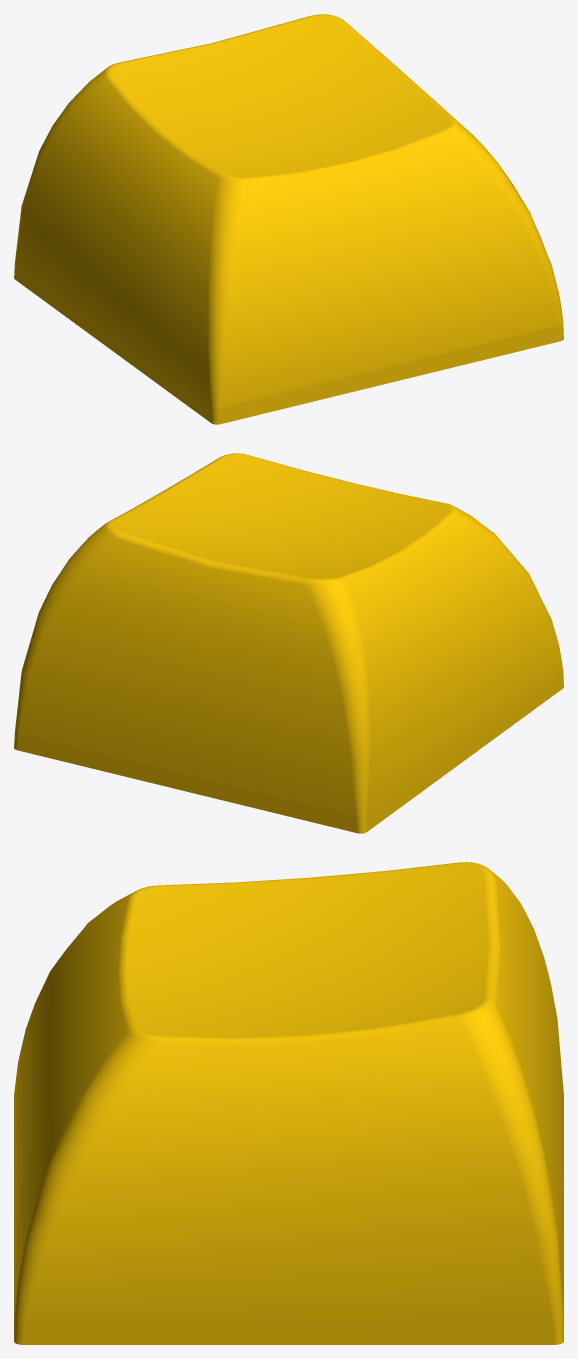
File: KAT_1u_r2.glb
The picture shows the model from 3 angles, top to bottom: view 1: azimuth 30°, elevation 25°; view 2: azimuth 150°, elevation 25°; view 3: azimuth 270°, elevation 25°; orthographic projection. The views are drawn at different scales.
Visible parts, largest first — view 1: Object.001; view 2: Object.001; view 3: Object.001.
Boxes of the visible parts, x1=… form: Object.001: x1=14, y1=14, x2=563, y2=424; Object.001: x1=14, y1=453, x2=563, y2=833; Object.001: x1=14, y1=862, x2=563, y2=1344.
Bounding box in the file's own units: 18.2 × 10.67 × 18.2.
